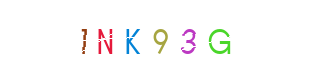1: (59, 0, 139, 80)
3: (131, 0, 211, 80)
9: (120, 0, 200, 80)
G: (180, 0, 260, 80)
K: (118, 0, 198, 80)
N: (91, 0, 171, 80)
